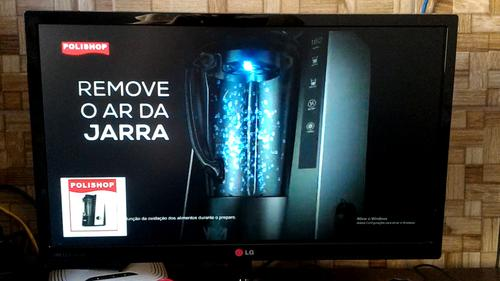Polishop #1: (60, 177, 128, 237)
